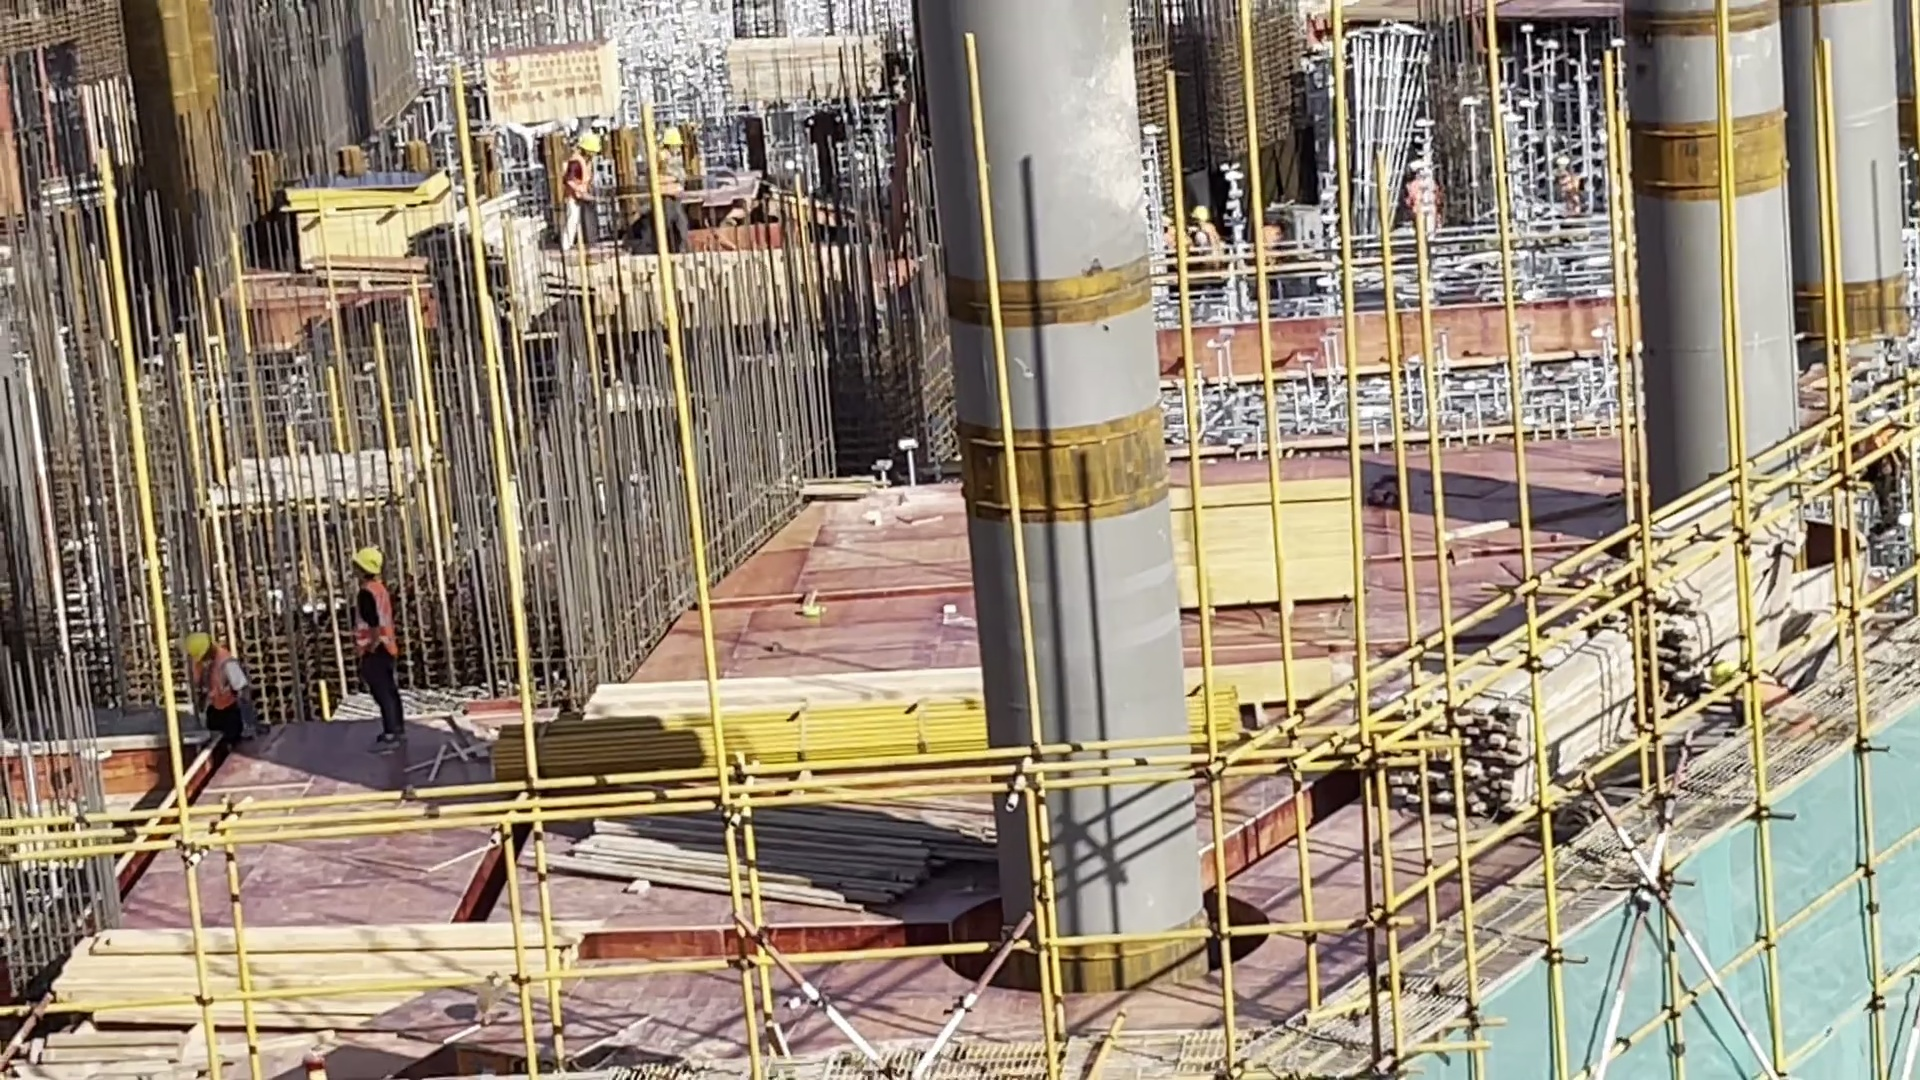board: (1151, 426, 1363, 631), (286, 156, 452, 215)
helmet: (349, 548, 388, 587), (186, 632, 217, 666), (661, 126, 689, 154), (575, 133, 599, 158), (1194, 204, 1207, 224)
person: (345, 544, 423, 744), (177, 613, 255, 774), (648, 126, 704, 261), (563, 130, 609, 254), (1194, 197, 1231, 287), (1406, 158, 1451, 233)
vest: (353, 583, 401, 662), (189, 646, 236, 714), (567, 148, 603, 210)
wood: (55, 907, 581, 1046), (1398, 638, 1616, 821), (1641, 514, 1791, 701), (723, 28, 890, 109)
